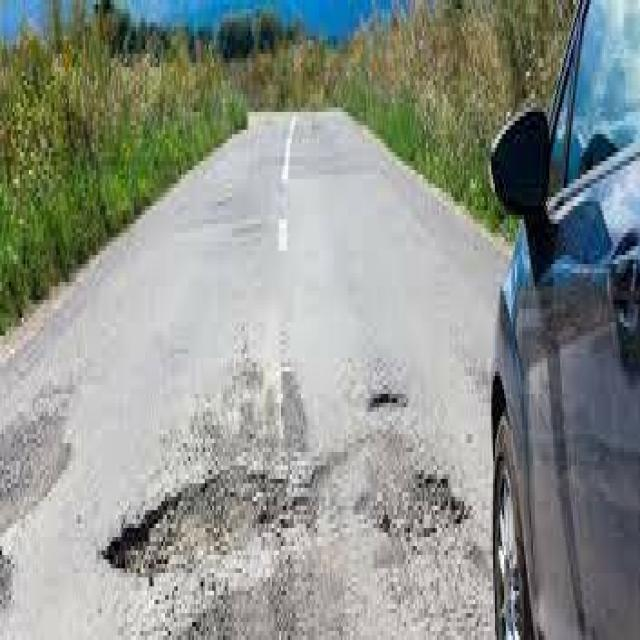Pothole: (96, 331, 426, 640)
